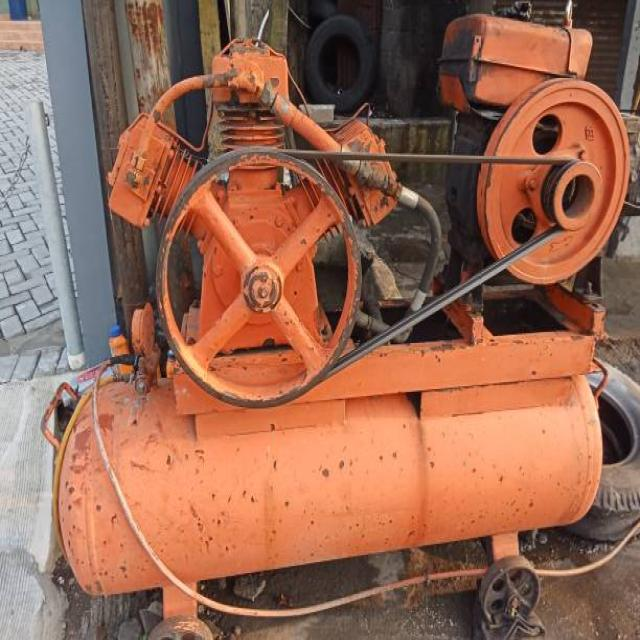compressor: (40, 2, 630, 638)
corrosion detected: (472, 74, 630, 287), (240, 262, 284, 317)
